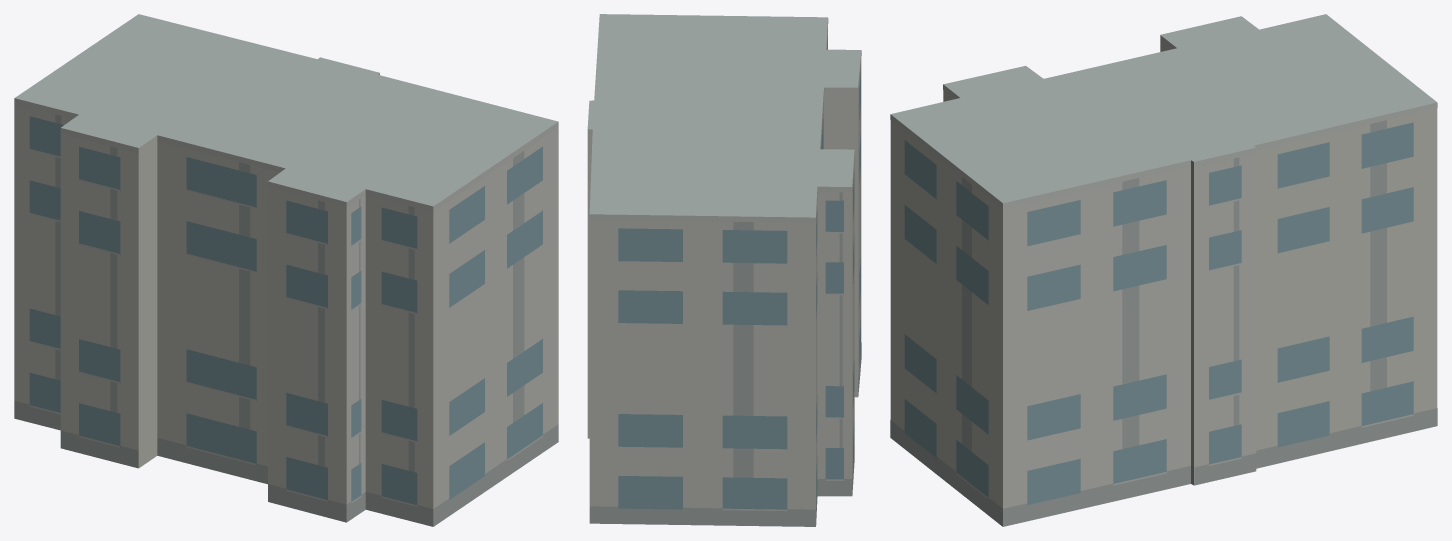
Rendered from survey-upis-32684998.glb.
The picture shows the model from 3 angles, left to right: view 1: azimuth 30°, elevation 25°; view 2: azimuth 150°, elevation 25°; view 3: azimuth 270°, elevation 25°; orthographic projection. The views are drawn at different scales.
Visible parts, largest first — view 1: survey-upis-32684998.tmp; view 2: survey-upis-32684998.tmp; view 3: survey-upis-32684998.tmp.
Boxes of the visible parts, x1=… form: survey-upis-32684998.tmp: x1=14, y1=14, x2=558, y2=526; survey-upis-32684998.tmp: x1=587, y1=14, x2=861, y2=526; survey-upis-32684998.tmp: x1=890, y1=14, x2=1437, y2=526.
Bounding box in the file's own units: 17.07 × 13.6 × 20.84.
